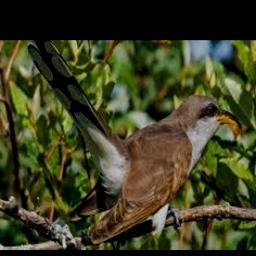Cuckoo: (28, 40, 243, 243)
